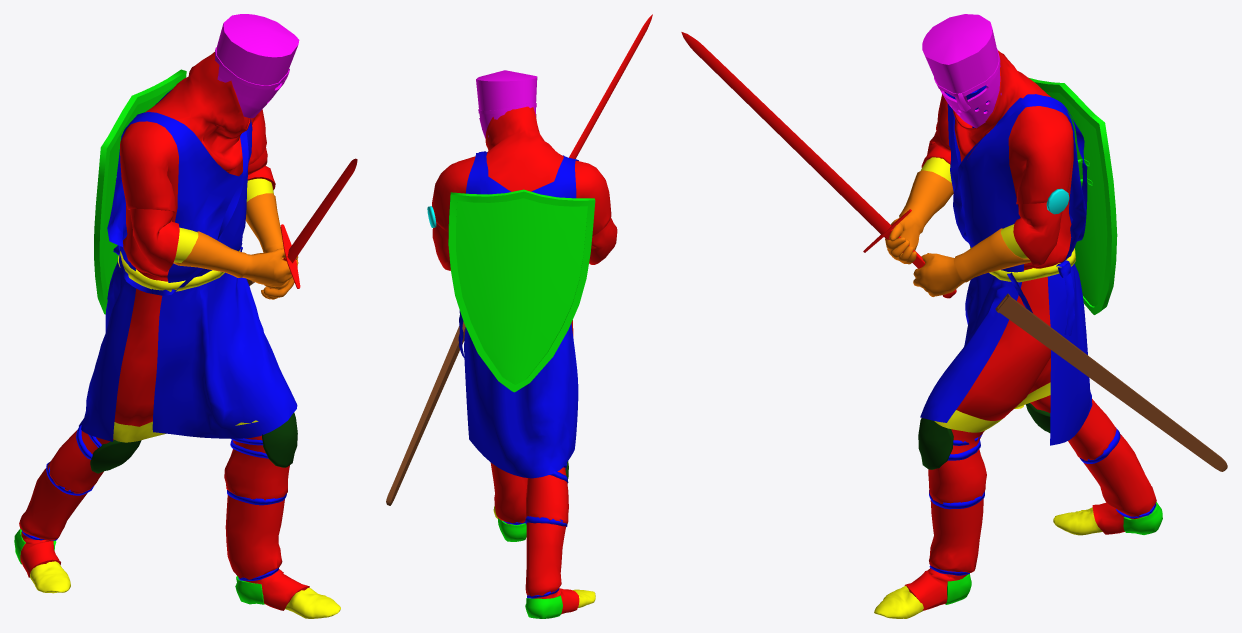
Rendered from Crusader.dae.
The picture shows the model from 3 angles, left to right: view 1: azimuth 30°, elevation 25°; view 2: azimuth 150°, elevation 25°; view 3: azimuth 270°, elevation 25°; orthographic projection. The views are drawn at different scales.
Parts seen in each view (by area): view 1: polySurface26, polySurface59, polySurface61, polySurface45, polySurface32, polySurface50, polySurface58, polySurface33, polySurface49, polySurface39, polySurface30, polySurface46 (+8 smaller); view 2: polySurface51, polySurface26, polySurface59, polySurface61, polySurface50, polySurface45, polySurface37, polySurface46, polySurface58, polySurface56, polySurface60, polySurface55; view 3: polySurface26, polySurface59, polySurface61, polySurface45, polySurface37, polySurface49, polySurface46, polySurface33, polySurface32, polySurface50, polySurface60, polySurface39 (+6 smaller).
Part boxes in pixels (x1,y1,x2,y2): polySurface26: [79, 89, 297, 441]; polySurface59: [114, 52, 266, 426]; polySurface61: [19, 430, 309, 610]; polySurface45: [215, 14, 299, 118]; polySurface32: [173, 231, 298, 287]; polySurface50: [94, 69, 186, 314]; polySurface58: [130, 209, 179, 272]; polySurface33: [245, 193, 294, 299]; polySurface49: [103, 86, 174, 292]; polySurface39: [262, 412, 297, 467]; polySurface30: [113, 131, 248, 295]; polySurface46: [287, 158, 357, 263]; polySurface51: [456, 198, 587, 384]; polySurface26: [464, 152, 578, 478]; polySurface59: [432, 106, 611, 335]; polySurface61: [490, 463, 579, 614]; polySurface50: [448, 189, 595, 392]; polySurface45: [476, 70, 537, 138]; polySurface37: [386, 321, 465, 505]; polySurface46: [569, 14, 652, 158]; polySurface58: [589, 218, 617, 264]; polySurface56: [525, 595, 562, 618]; polySurface60: [432, 223, 450, 270]; polySurface55: [498, 518, 526, 541]; polySurface26: [920, 94, 1092, 445]; polySurface59: [936, 50, 1073, 420]; polySurface61: [904, 382, 1156, 610]; polySurface45: [922, 14, 1001, 128]; polySurface37: [1000, 297, 1227, 471]; polySurface49: [1045, 91, 1107, 306]; polySurface46: [681, 32, 891, 234]; polySurface33: [913, 228, 1030, 296]; polySurface32: [885, 170, 953, 264]; polySurface50: [1028, 77, 1117, 314]; polySurface60: [1013, 202, 1062, 266]; polySurface39: [918, 418, 953, 469].
Bounding box in the file's own units: 0.783 × 2 × 1.73.
